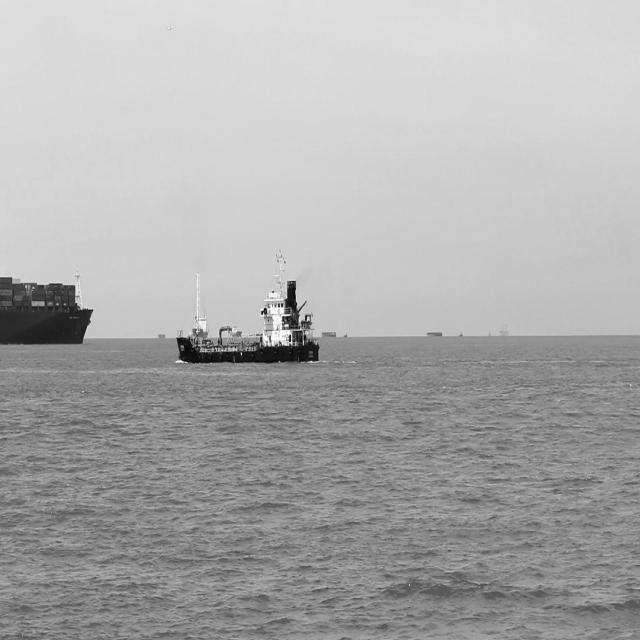ship: (175, 244, 322, 366), (0, 259, 94, 350), (424, 323, 442, 341), (500, 319, 515, 339), (156, 326, 170, 344)
